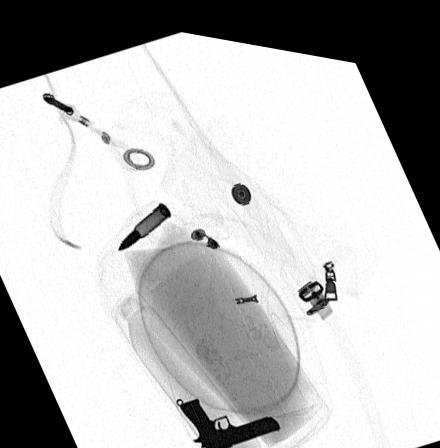Bullet: (117, 196, 170, 245)
Gun: (175, 387, 282, 443)
